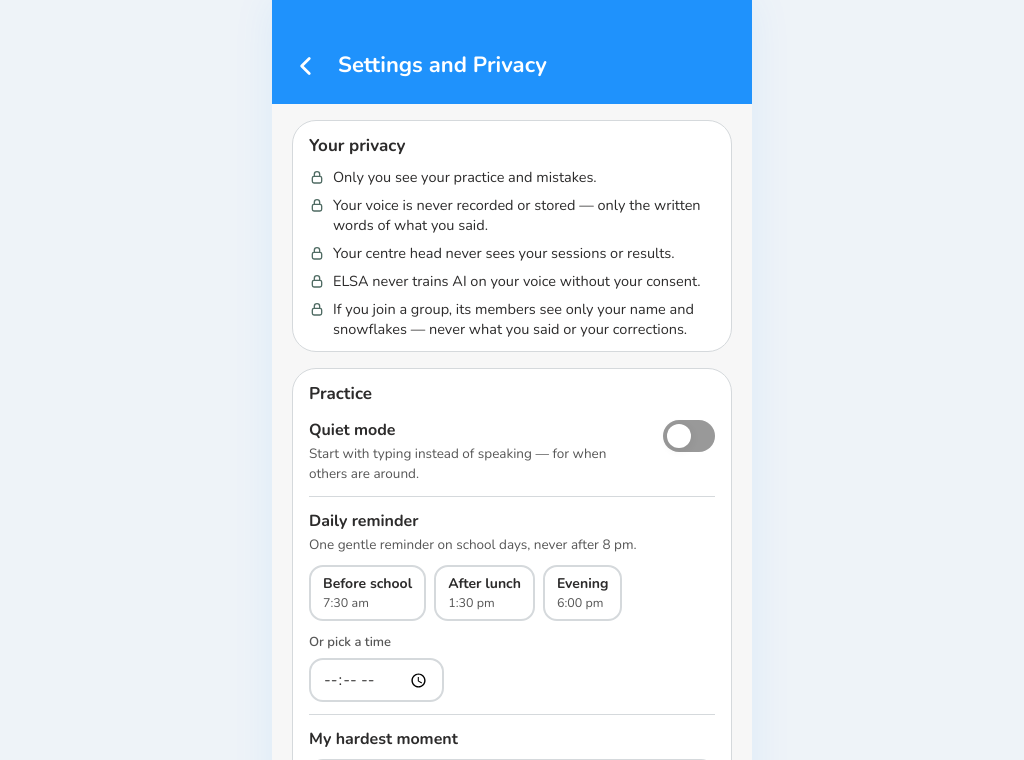
Test: Settings › saves preferences and deletes practice data after confirming
Click the switch named "Quiet mode" at (689, 436), box [663, 420, 715, 452]
(page scrolled)
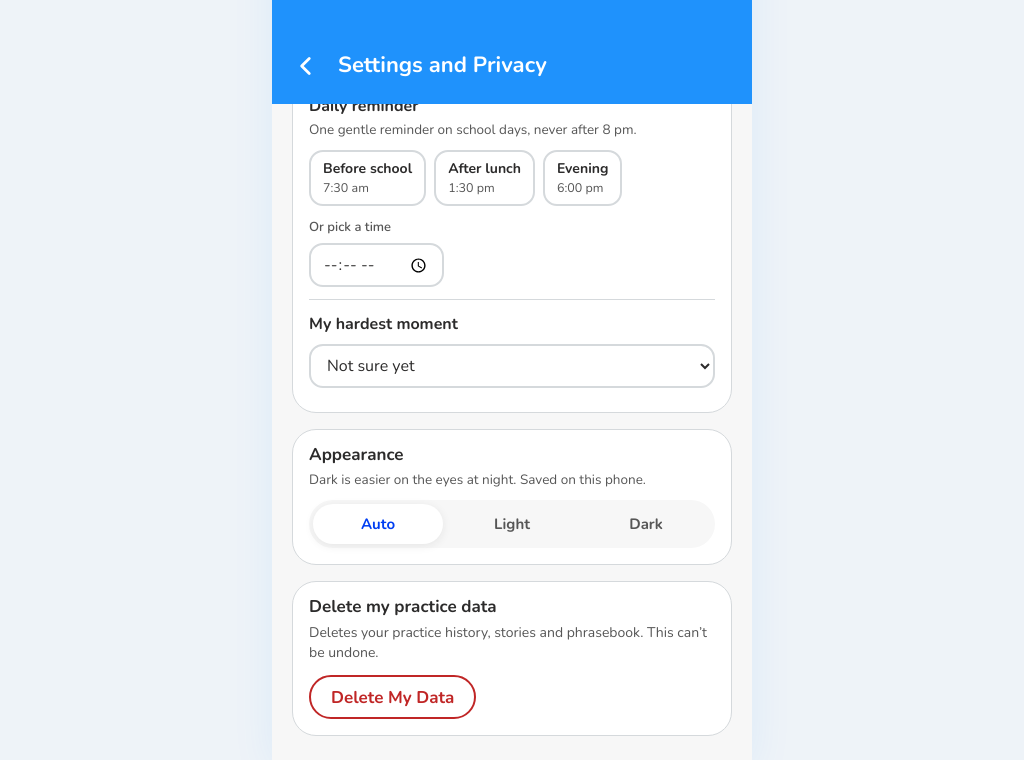
Click the button "Delete My Data" at (393, 697), box [309, 675, 476, 719]
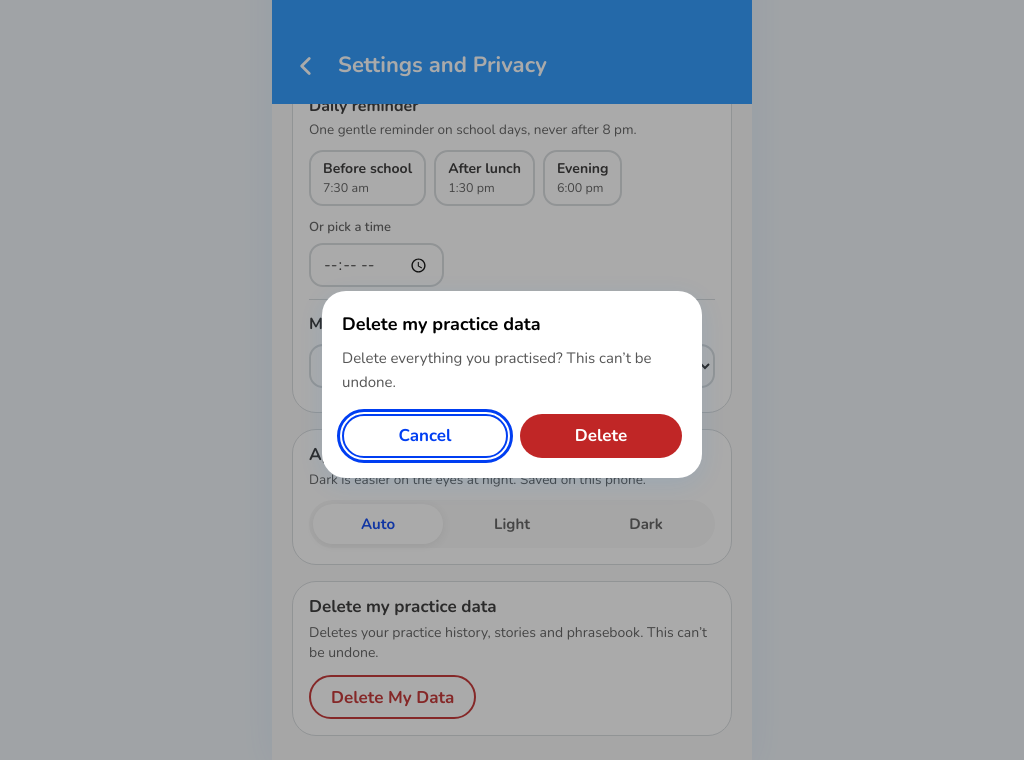
Click the button "Delete" at (601, 436), box [520, 414, 682, 458]
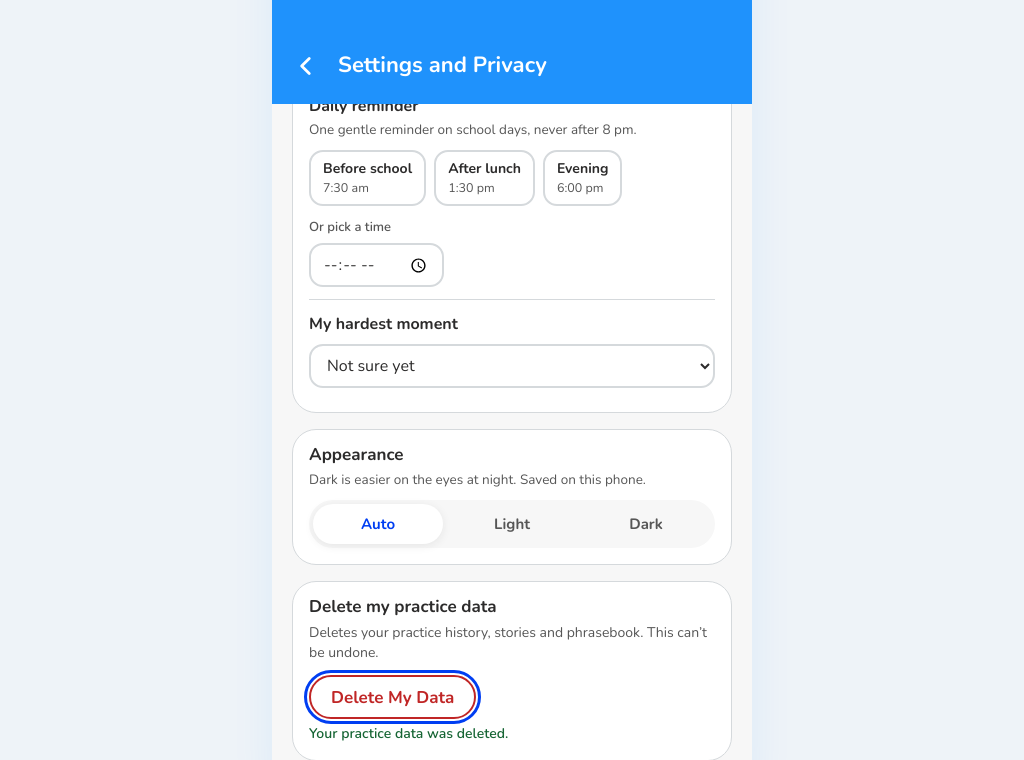
Result: the text "Your practice data was deleted." is shown at [309, 724, 508, 743]
